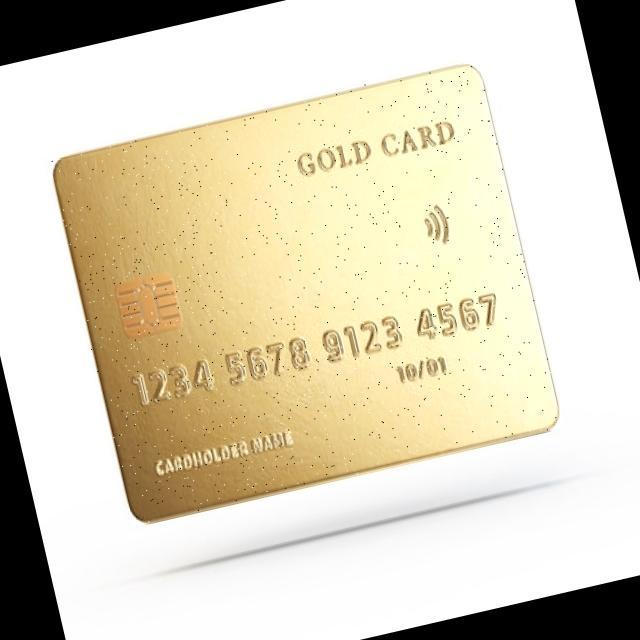payment_card: (51, 62, 560, 523)
